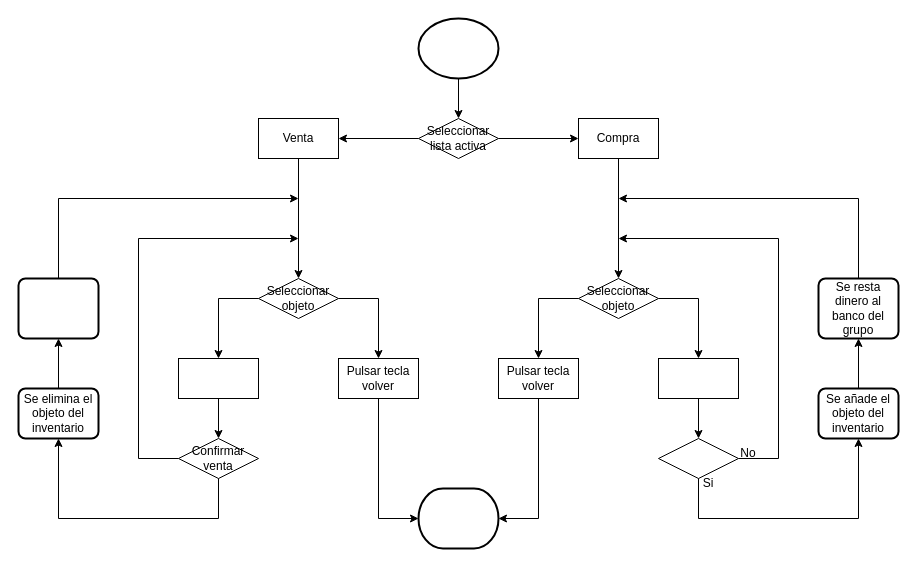
Image size: 916x566. Some labels were removed from this diagram. The shapes that lost their labels are listed below. From the top down, each one's box as (x1, y1, x2, y2) in pixels, then its label:
(417, 17, 499, 79): Interfaz de compra
(17, 277, 99, 339): Se suma dinero al banco del grupo
(178, 358, 258, 398): Realizar venta
(658, 358, 738, 398): Realizar compra
(658, 438, 738, 478): Confirmar compra
(417, 487, 499, 549): Volver a la interfaz de mapa
